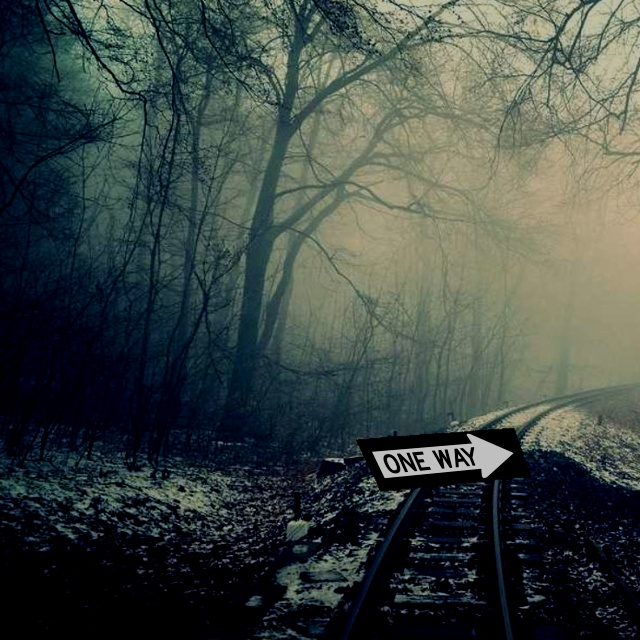ONE_WAY_ right: (355, 427, 531, 492)
